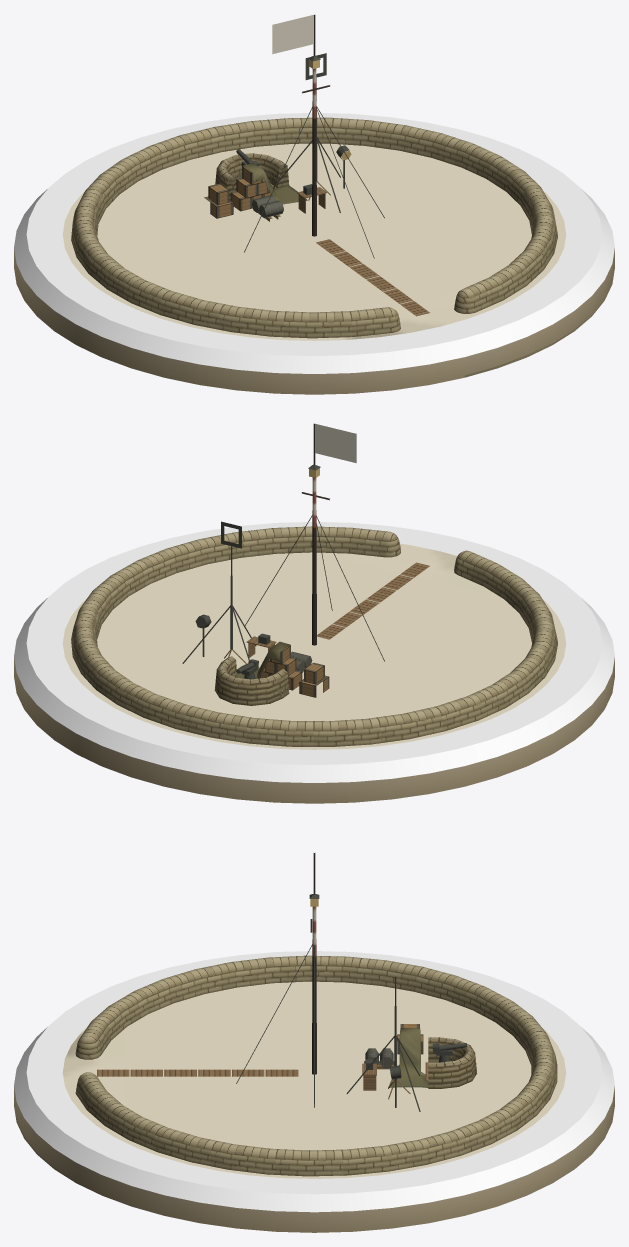
The model's file is outpost.glb.
The picture shows the model from 3 angles, top to bottom: view 1: azimuth 30°, elevation 25°; view 2: azimuth 150°, elevation 25°; view 3: azimuth 270°, elevation 25°; orthographic projection.
Parts seen in each view (by area): view 1: socle, lisere, sacs, magasin_caisses, fort_sacs, chemin, drapeau, signe_mat, magasin_bache, signe_haubans, magasin_futs; view 2: socle, lisere, sacs, fort_sacs, magasin_caisses, chemin, drapeau, signe_mat; view 3: socle, lisere, sacs, fort_sacs, chemin, magasin_bache, signe_mat.
Part boxes in pixels (x1,y1,x2,y2): socle: (14, 143, 614, 394); lisere: (14, 113, 614, 373); sacs: (71, 117, 557, 338); magasin_caisses: (204, 166, 270, 218); fort_sacs: (215, 153, 289, 200); chemin: (316, 239, 429, 316); drapeau: (272, 14, 314, 54); signe_mat: (312, 68, 316, 236); magasin_bache: (242, 163, 307, 204); signe_haubans: (244, 106, 384, 258); magasin_futs: (251, 195, 283, 218); socle: (14, 543, 614, 803); lisere: (14, 522, 614, 782); sacs: (71, 526, 557, 746); fort_sacs: (214, 656, 289, 705); magasin_caisses: (259, 645, 329, 697); chemin: (317, 562, 429, 639); drapeau: (314, 423, 356, 463); signe_mat: (312, 477, 316, 645); socle: (14, 981, 614, 1232); lisere: (14, 951, 614, 1212); sacs: (75, 955, 557, 1176); fort_sacs: (428, 1037, 476, 1088); chemin: (97, 1069, 298, 1076); magasin_bache: (388, 1028, 428, 1087); signe_mat: (312, 906, 316, 1074).
Bounding box in the file's own units: 37 × 17.2 × 37.
Materials: 8 (5 with a texture image).
